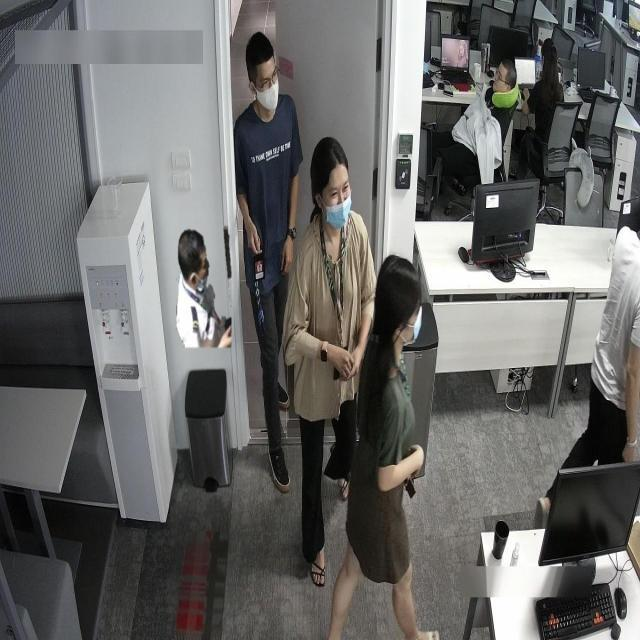hairnet: (194, 242, 212, 298)
